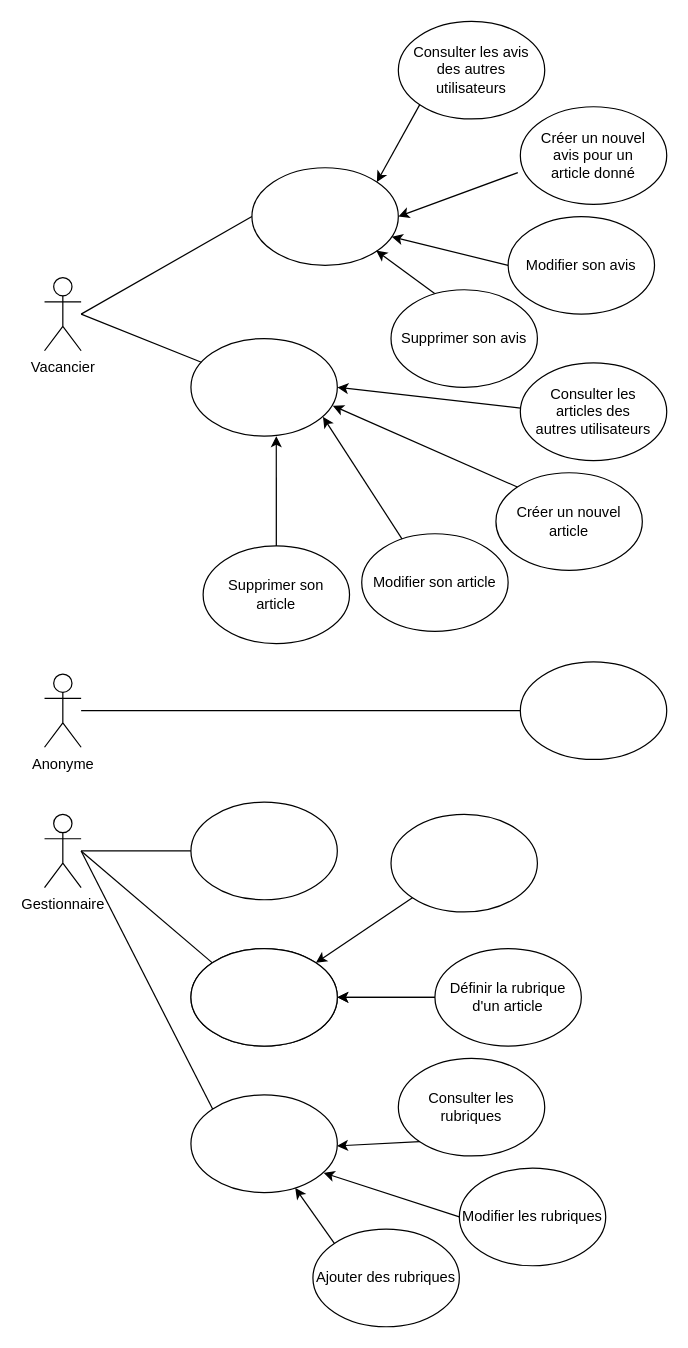
The diagram is 688 pixels wide and 1348 high, and some of its shapes have lost their labels. The box of each missing label's shape, as (x1, y1, x2, y2) in pixels:
Gérer les rubriques: (190, 1094, 337, 1193)
Gérer ses articles: (190, 337, 337, 436)
Gérer ses avis: (251, 167, 398, 265)
Modifier l'état d'un article: (390, 813, 537, 912)
Modérer les articles: (190, 947, 337, 1046)
Modérer les avis: (190, 801, 337, 900)
S'authentifier: (519, 661, 667, 759)
